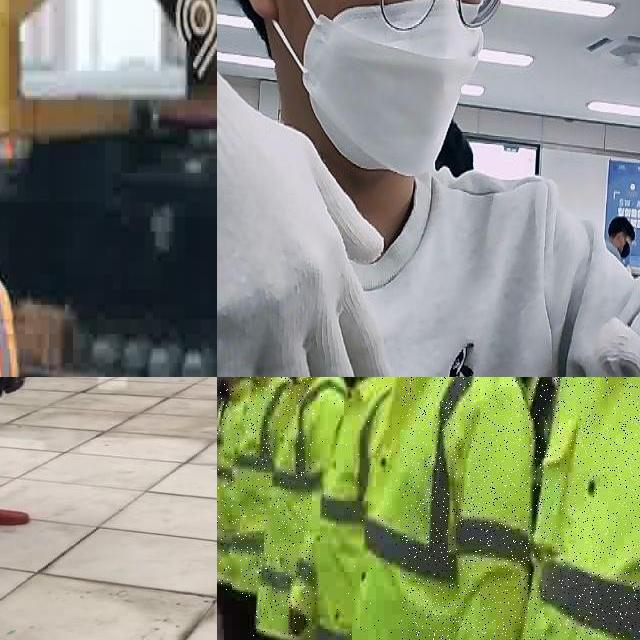BOOTS: (0, 492, 34, 532)
GLOVE: (217, 45, 404, 377), (488, 259, 640, 377)
VEST: (345, 377, 536, 640), (512, 377, 640, 640), (253, 377, 348, 638), (314, 377, 402, 640), (230, 377, 294, 597), (217, 377, 252, 590)
